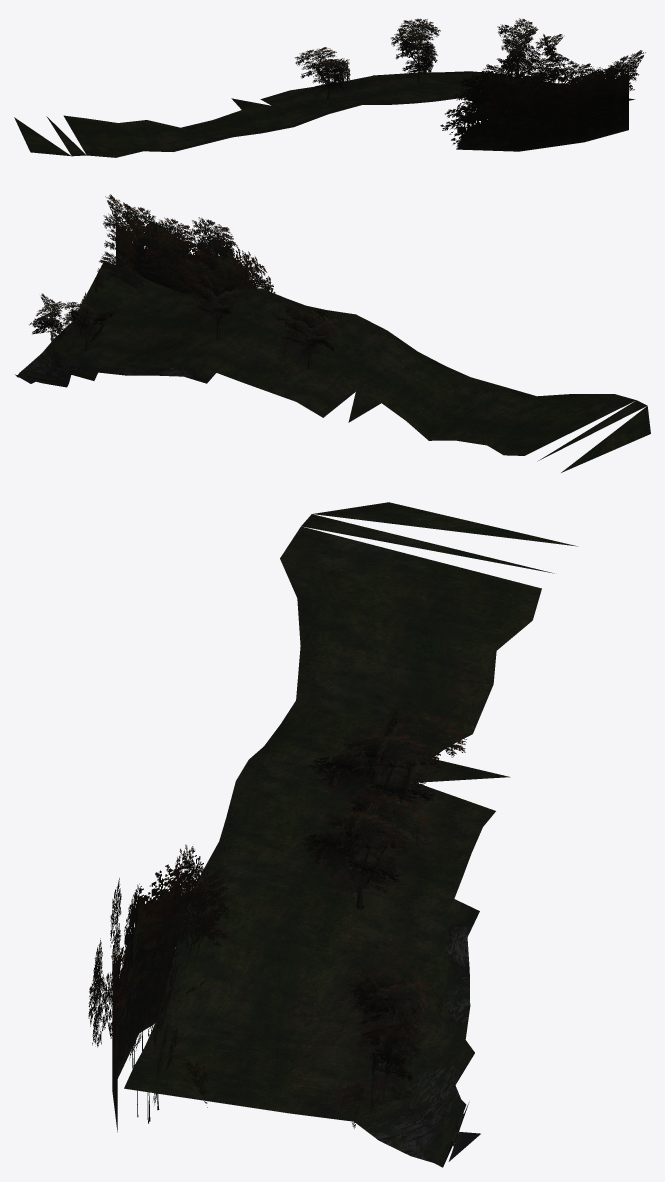
Rendered from cell_-1_-11.gltf.
The picture shows the model from 3 angles, top to bottom: view 1: azimuth 30°, elevation 25°; view 2: azimuth 150°, elevation 25°; view 3: azimuth 270°, elevation 25°; orthographic projection. The views are drawn at different scales.
Parts seen in each view (by area): view 1: cell_-1_-11; view 2: cell_-1_-11; view 3: cell_-1_-11.
Boxes of the visible parts, <box> form: cell_-1_-11: <box>14,18,645,157</box>; cell_-1_-11: <box>15,194,650,472</box>; cell_-1_-11: <box>88,502,578,1167</box>.
Size of the model in its own units: 219 by 43.06 by 85.2.
10 materials, 10 textured.
